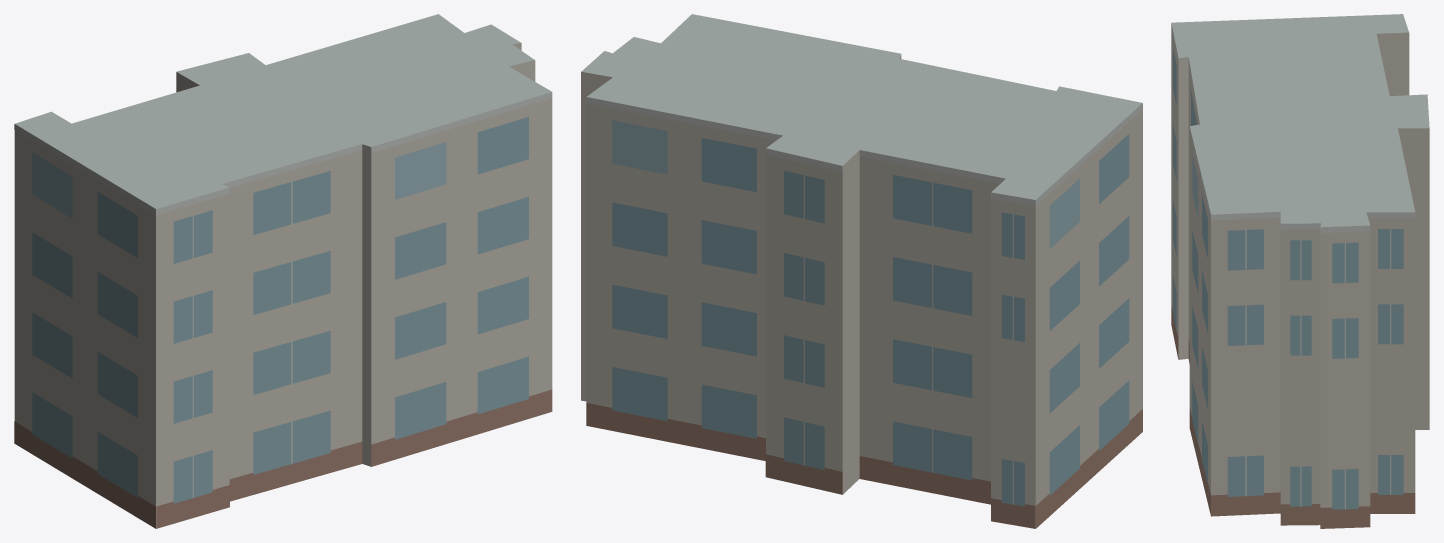
The model's file is survey-upis-32923433.glb.
The picture shows the model from 3 angles, left to right: view 1: azimuth 30°, elevation 25°; view 2: azimuth 150°, elevation 25°; view 3: azimuth 270°, elevation 25°; orthographic projection. The views are drawn at different scales.
Parts seen in each view (by area): view 1: survey-upis-32923433.tmp; view 2: survey-upis-32923433.tmp; view 3: survey-upis-32923433.tmp.
Boxes of the visible parts, x1=… form: survey-upis-32923433.tmp: x1=14, y1=14, x2=552, y2=528; survey-upis-32923433.tmp: x1=581, y1=14, x2=1142, y2=528; survey-upis-32923433.tmp: x1=1171, y1=14, x2=1429, y2=528.
Bounding box in the file's own units: 19.2 × 12.66 × 9.83.
